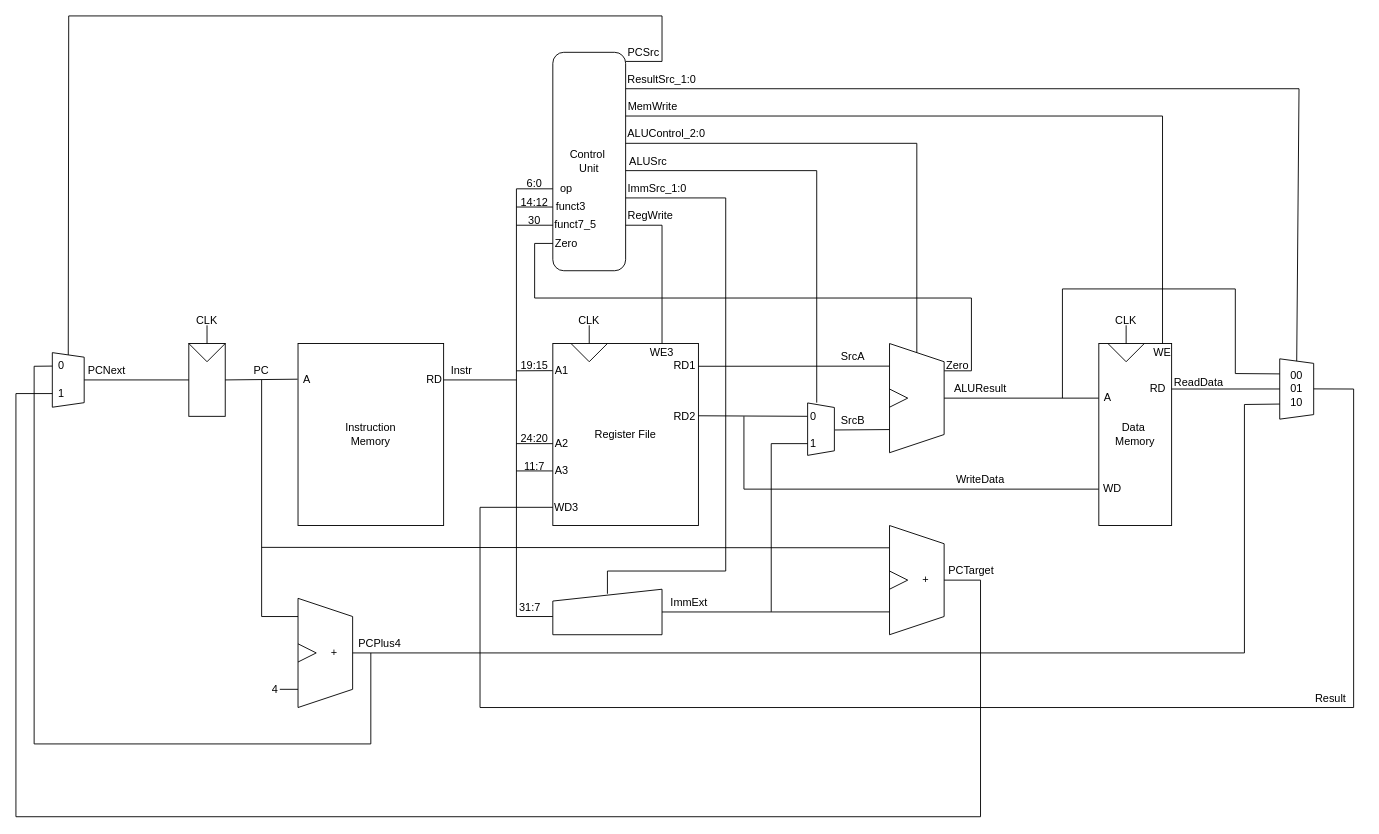
This 1379x834 diagram has some shape labels left out. The centre of each missing label's shape, as x and y in pixels:
"ALU" goes at (x=916, y=398).
"Extend" goes at (x=607, y=611).
